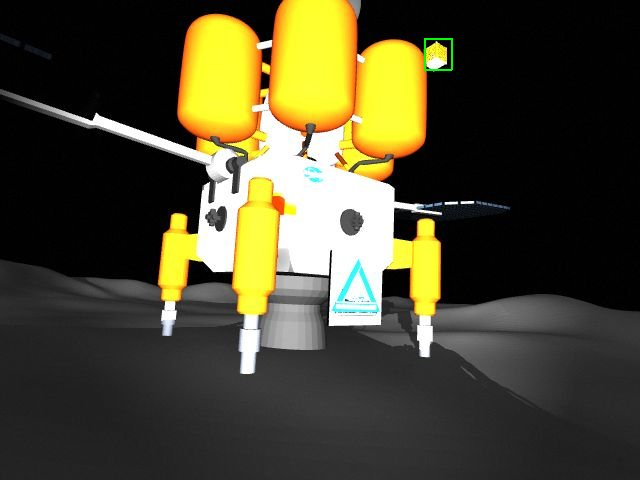basemarker: (331, 258, 380, 316)
